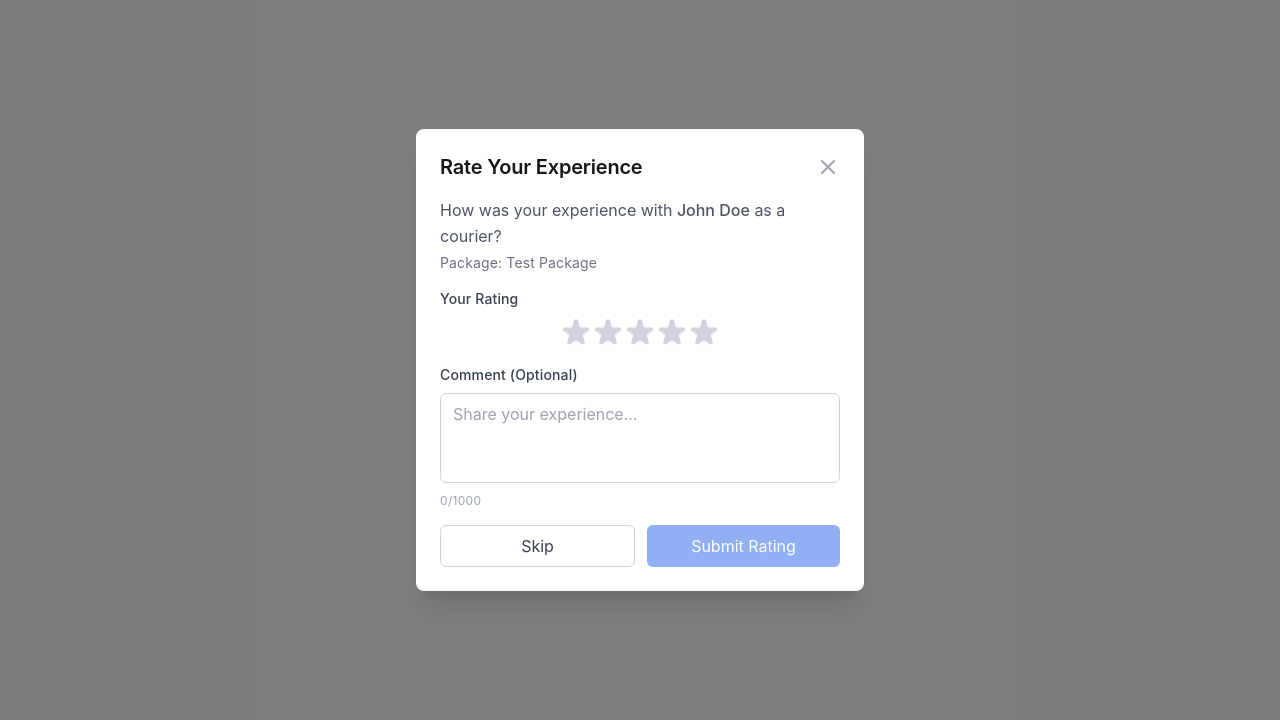
Test case: RatingModal › shows error message on API failure
// Select a rating
Click the button named "3 stars" at (640, 333), box [624,317,656,349]
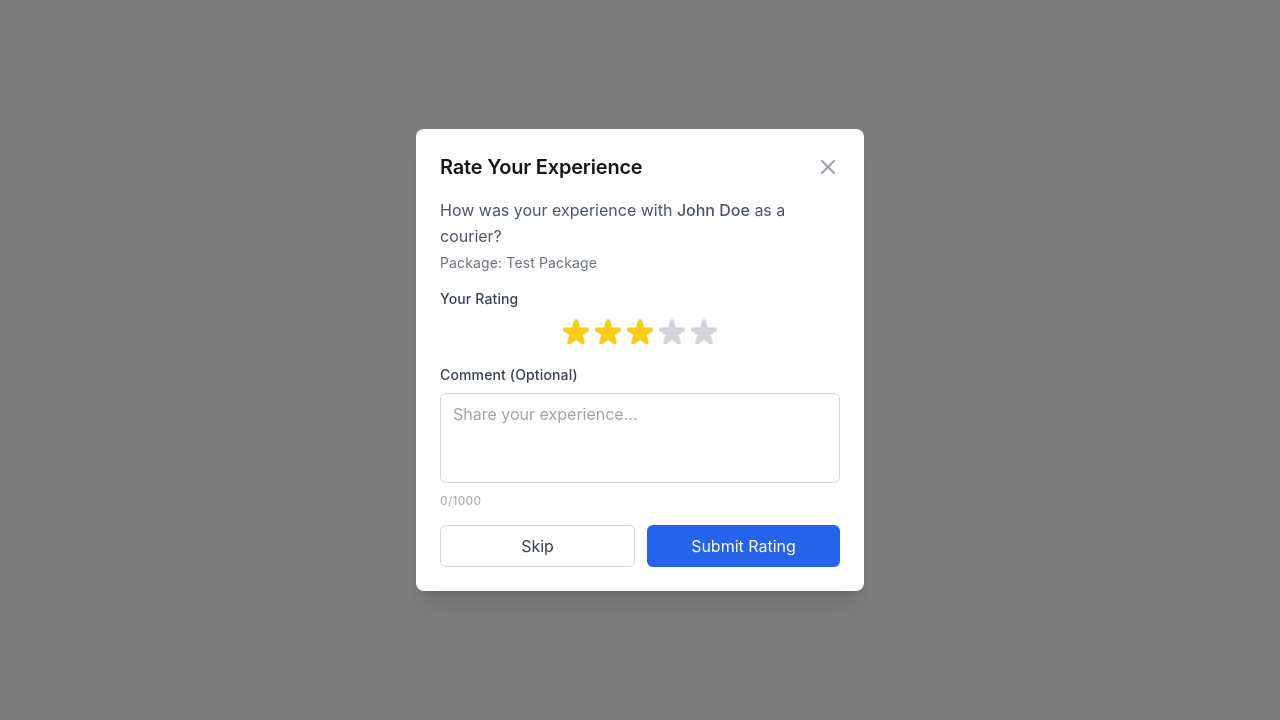
Click the button "Submit Rating" at (744, 546), box [647,525,840,567]
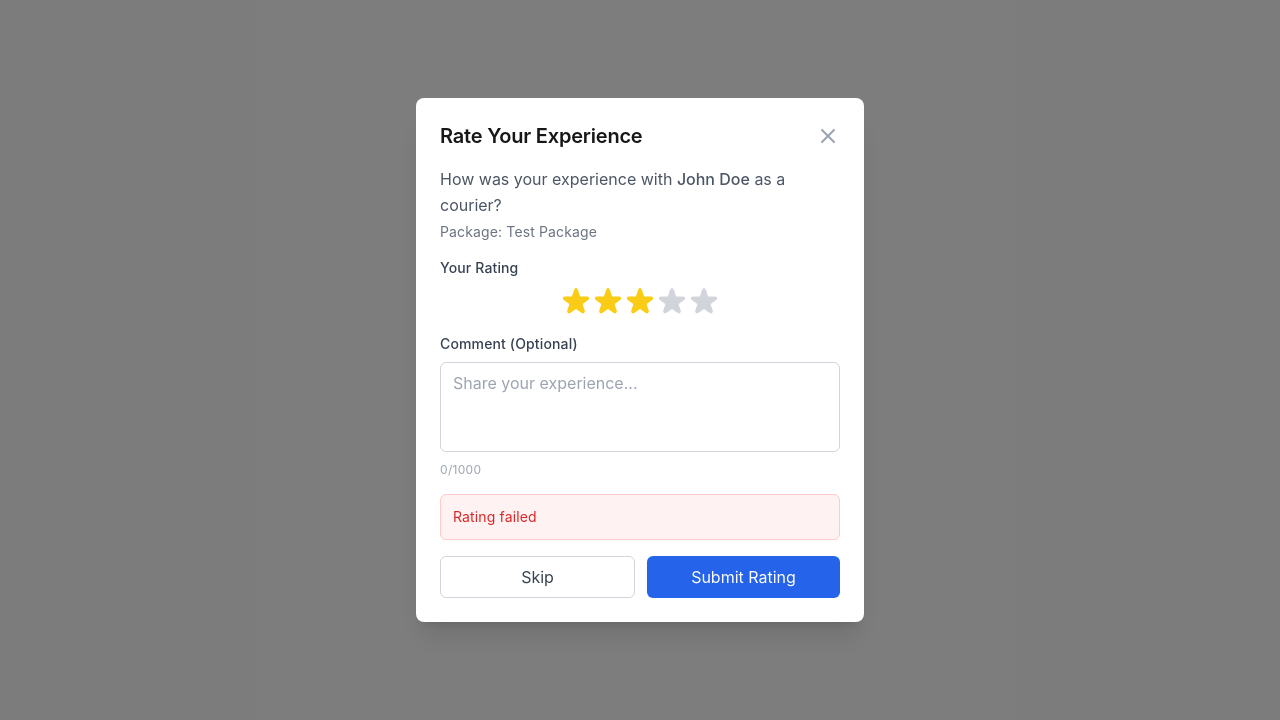
Expected: the text "Rating failed" is shown, [453,508,537,525]
